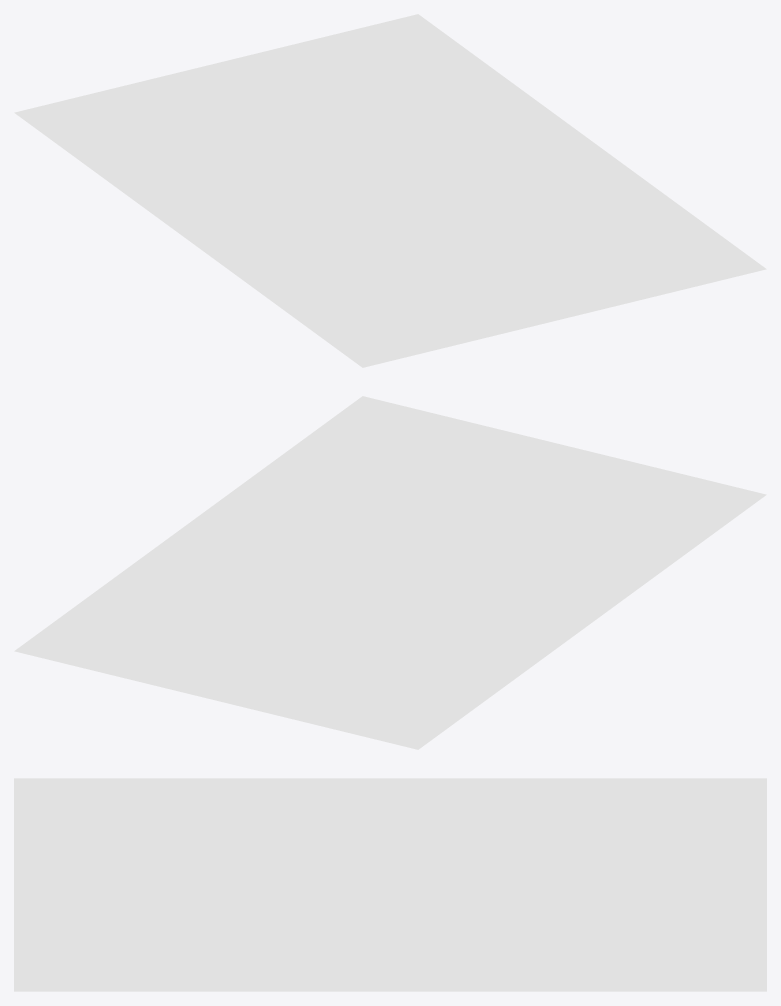
3 renders of one model, top to bottom at view 1: azimuth 30°, elevation 25°; view 2: azimuth 150°, elevation 25°; view 3: azimuth 270°, elevation 25°, orthographic. The views are drawn at different scales.
Parts seen in each view (by area): view 1: zd_fz003a, zd_fz003b; view 2: zd_fz003a, zd_fz003b; view 3: zd_fz003a, zd_fz003b.
Part boxes in pixels (x1,y1,x2,y2): zd_fz003a: (154,116,766,367); zd_fz003b: (14,14,557,214); zd_fz003a: (154,396,766,647); zd_fz003b: (14,549,557,749); zd_fz003a: (14,778,465,991); zd_fz003b: (465,778,766,991).
Size of the model in its own units: 3.35 by 1.42e-15 by 5.
